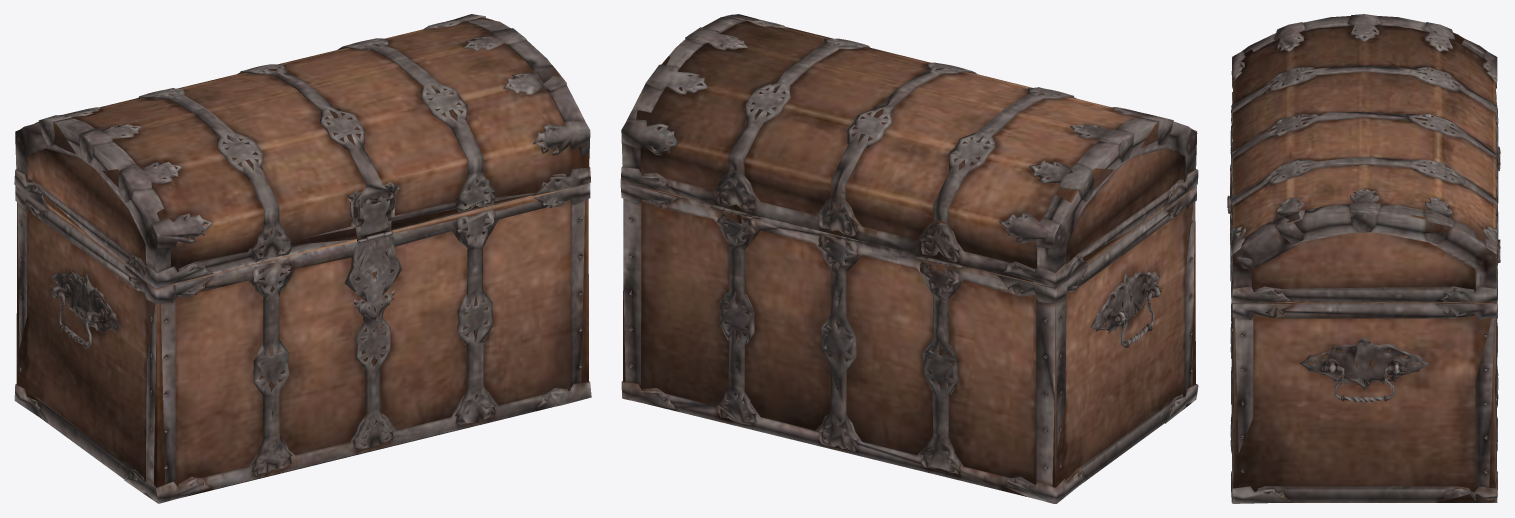
File: treasure_chest.glb
3 views of the same model, side by side, from view 1: azimuth 30°, elevation 25°; view 2: azimuth 150°, elevation 25°; view 3: azimuth 270°, elevation 25° (orthographic). The views are drawn at different scales.
Parts seen in each view (by area): view 1: treasure_chest_bottom, treasure_chest_lid, treasure_chest_lock; view 2: treasure_chest_bottom, treasure_chest_lid; view 3: treasure_chest_lid, treasure_chest_bottom, treasure_chest_handle_right.
Part boxes in pixels (x1,y1,x2,y2): treasure_chest_bottom: [14, 183, 591, 503]; treasure_chest_lid: [14, 14, 590, 288]; treasure_chest_lock: [349, 233, 399, 322]; treasure_chest_bottom: [620, 182, 1198, 503]; treasure_chest_lid: [620, 14, 1198, 288]; treasure_chest_lid: [1227, 14, 1500, 303]; treasure_chest_bottom: [1230, 118, 1500, 503]; treasure_chest_handle_right: [1321, 365, 1407, 402].
Bounding box in the file's own units: 0.959 × 0.6178 × 0.5223.
1 material, 1 textured.
